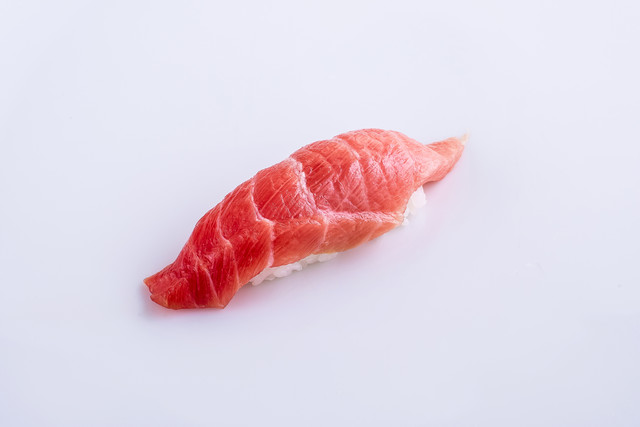medium_fatty_tuna: (139, 129, 460, 312)
